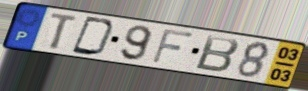8: (235, 41, 272, 79)
9: (119, 24, 154, 62)
B: (193, 33, 242, 74)
D: (69, 15, 118, 58)
F: (149, 27, 197, 66)
T: (48, 12, 80, 51)
